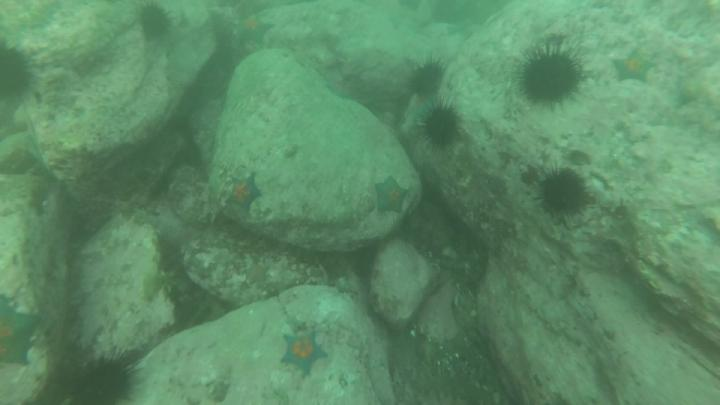echinus: (517, 39, 591, 108), (63, 348, 144, 405), (537, 163, 590, 223), (1, 36, 38, 103), (419, 102, 462, 152), (407, 55, 447, 99), (137, 1, 177, 43)
holothurian: (144, 268, 181, 308)
starfish: (1, 291, 45, 370), (281, 326, 328, 379), (223, 173, 264, 216), (611, 47, 656, 86), (374, 174, 410, 220), (238, 256, 277, 292), (234, 15, 276, 48)
